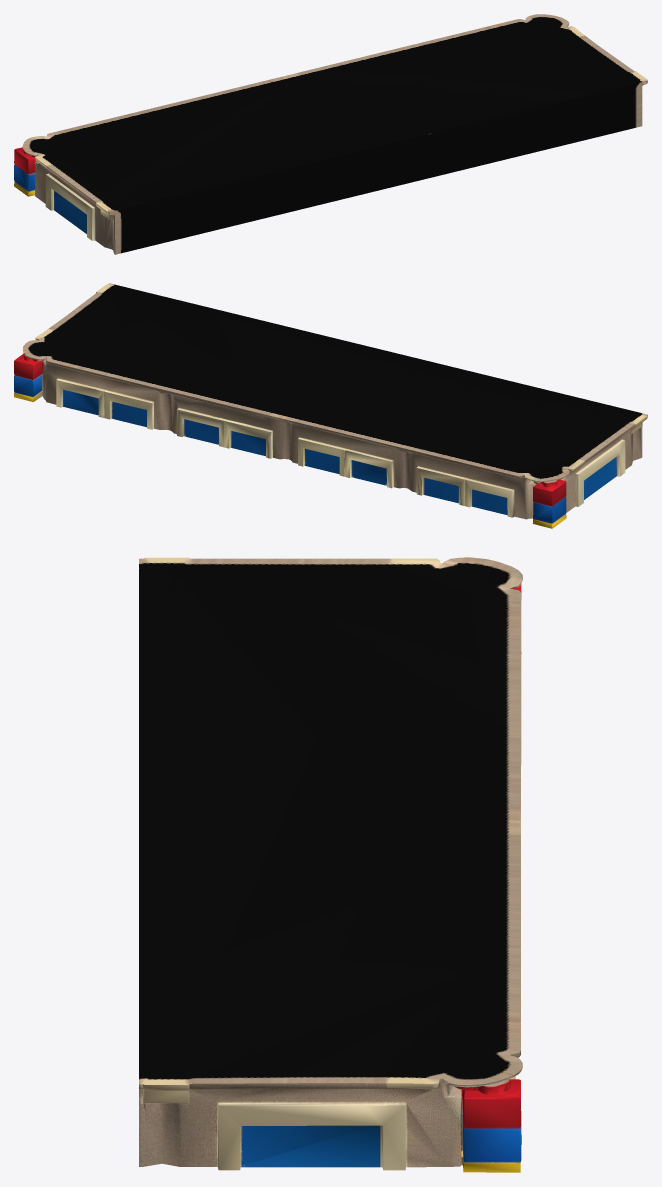
The model's file is 6-upper-walls-back.fbx.
The picture shows the model from 3 angles, top to bottom: view 1: azimuth 30°, elevation 25°; view 2: azimuth 150°, elevation 25°; view 3: azimuth 270°, elevation 25°; orthographic projection. The views are drawn at different scales.
Parts seen in each view (by area): view 1: upper-walls-back; view 2: upper-walls-back; view 3: upper-walls-back.
Part boxes in pixels (x1,y1,x2,y2): upper-walls-back: (14, 14, 647, 254); upper-walls-back: (14, 283, 647, 528); upper-walls-back: (139, 557, 522, 1172).
Size of the model in its own units: 14803 by 1158 by 4552.
Materials: 1 (1 with a texture image).
